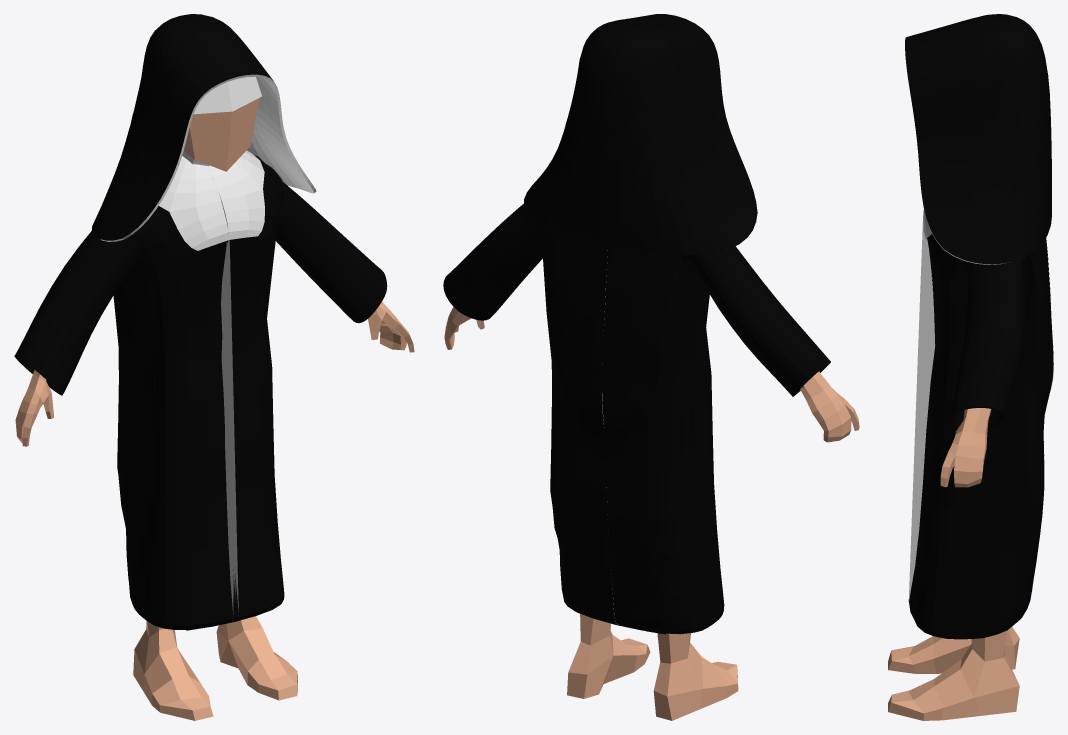
The model's file is religious sisterv3.fbx.
3 renders of one model, left to right at view 1: azimuth 30°, elevation 25°; view 2: azimuth 150°, elevation 25°; view 3: azimuth 270°, elevation 25°, orthographic. The views are drawn at different scales.
Visible parts, largest first — view 1: Cube; view 2: Cube; view 3: Cube.
Part boxes in pixels (<box>): Cube: <box>14,14,414,720</box>; Cube: <box>443,14,859,720</box>; Cube: <box>888,14,1053,720</box>.
Size of the model in its own units: 143 by 226 by 51.1.
